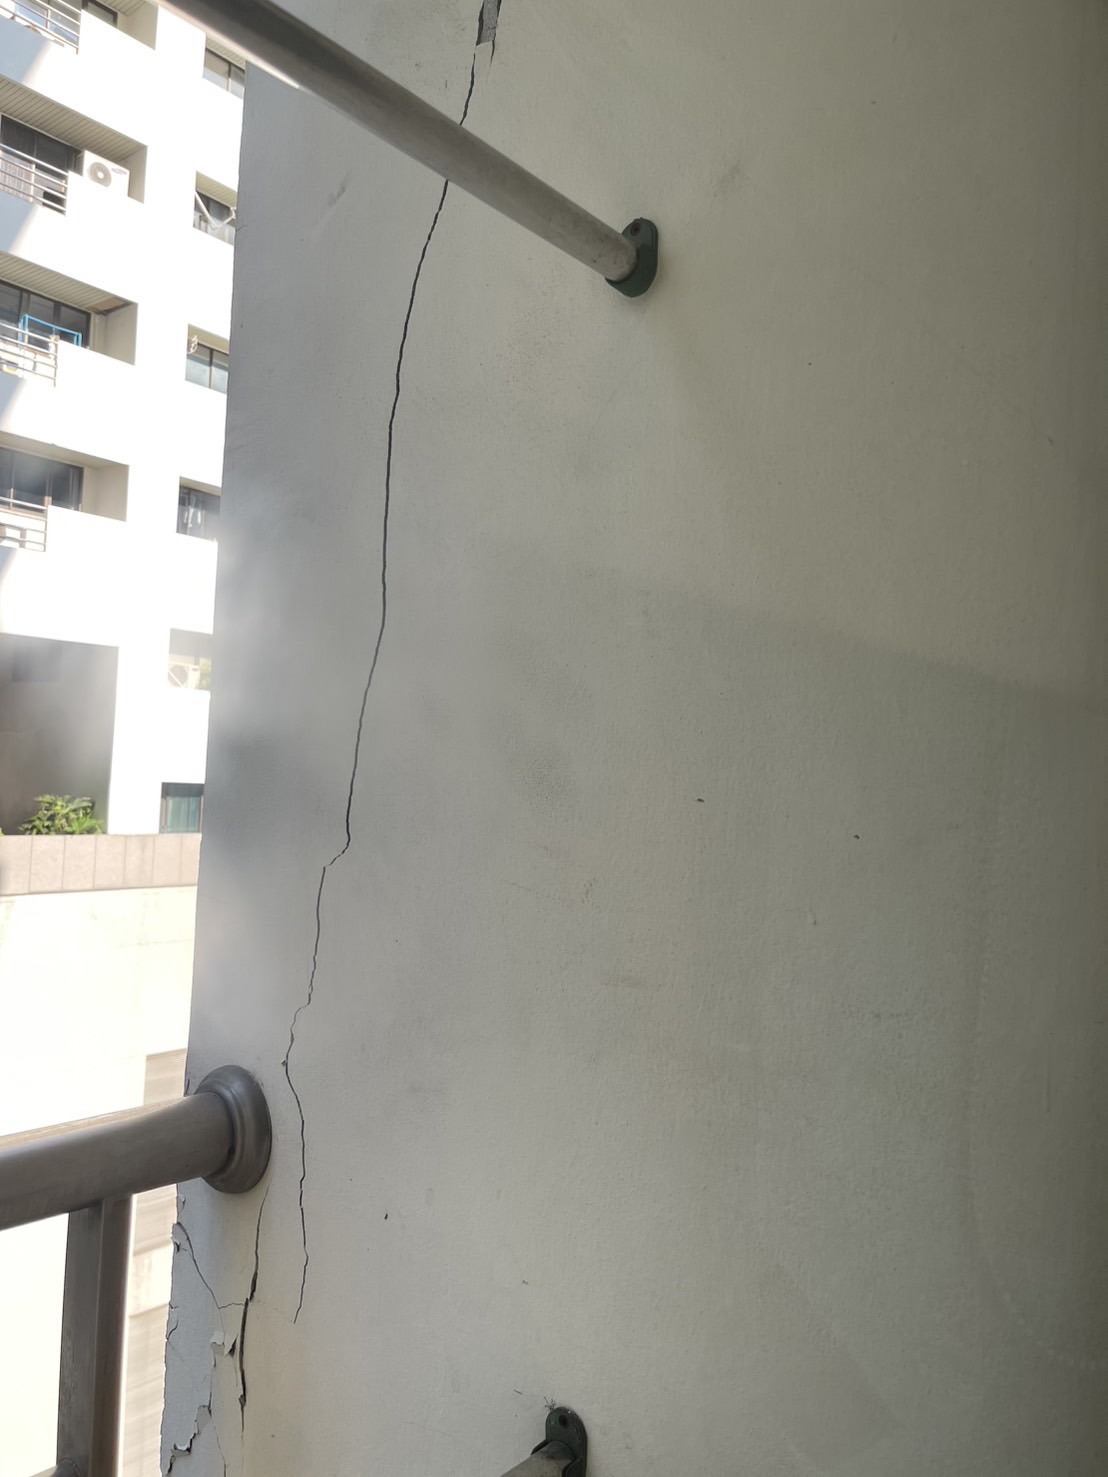Medium: (280, 262, 545, 1049)
